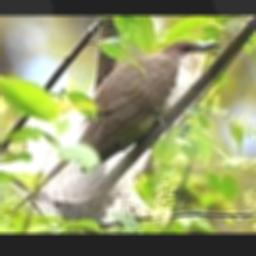Cuckoo: (15, 39, 220, 208)
